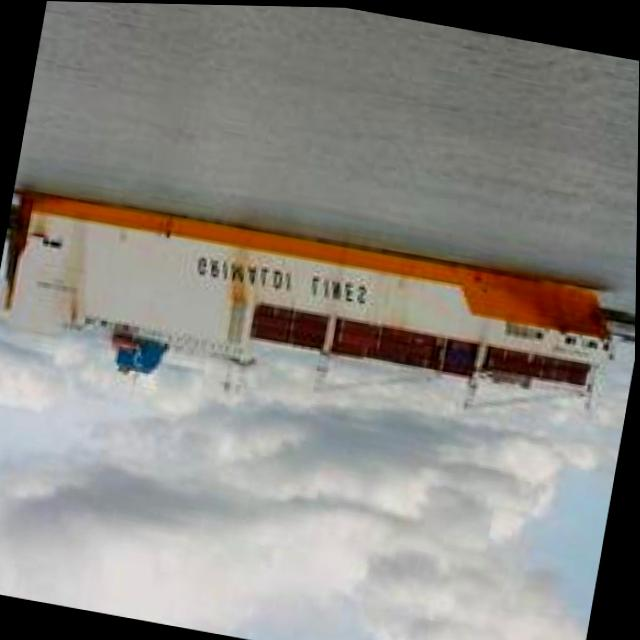ship2: (1, 191, 613, 412)
